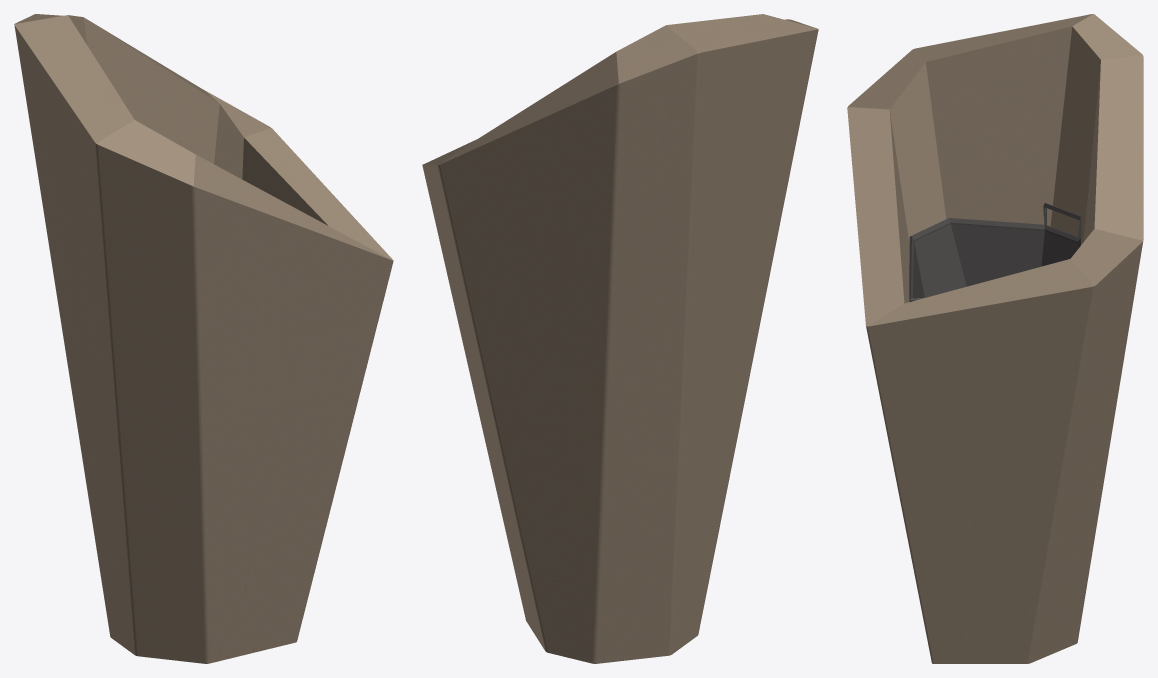
The model's file is tarro_tipo_lechuza.glb.
3 renders of one model, left to right at view 1: azimuth 30°, elevation 25°; view 2: azimuth 150°, elevation 25°; view 3: azimuth 270°, elevation 25°, orthographic. The views are drawn at different scales.
Parts seen in each view (by area): view 1: Cube_0; view 2: Cube_0; view 3: Cube_0, Cube.001_2.
Boxes of the visible parts, x1,y1,x2,y2 form: Cube_0: (14,14,393,663); Cube_0: (422,14,818,663); Cube_0: (847,14,1143,663); Cube.001_2: (909,203,1081,301).
Size of the model in its own units: 4.02 by 8.59 by 4.06.
4 materials, 3 textured.
